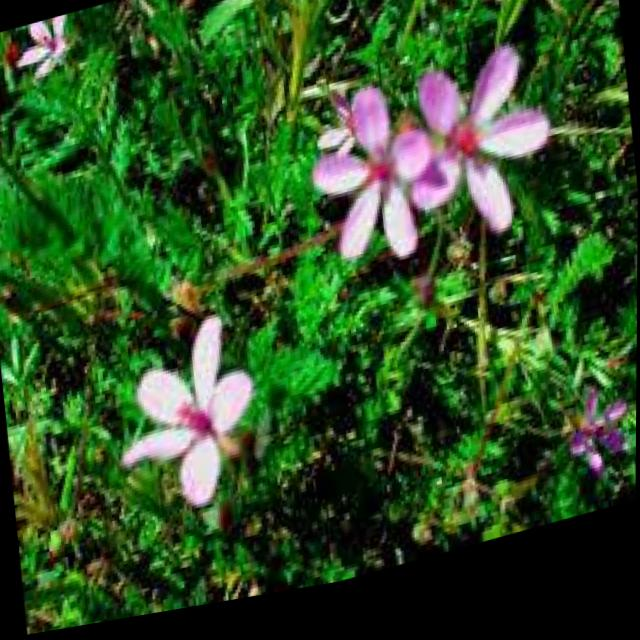Flower: (406, 61, 563, 274), (110, 328, 265, 537), (292, 78, 442, 289), (553, 397, 637, 502), (26, 16, 83, 101)
